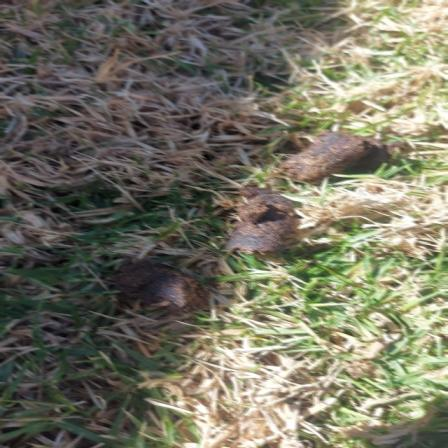dog-poop: (234, 128, 360, 261), (121, 253, 206, 318)
